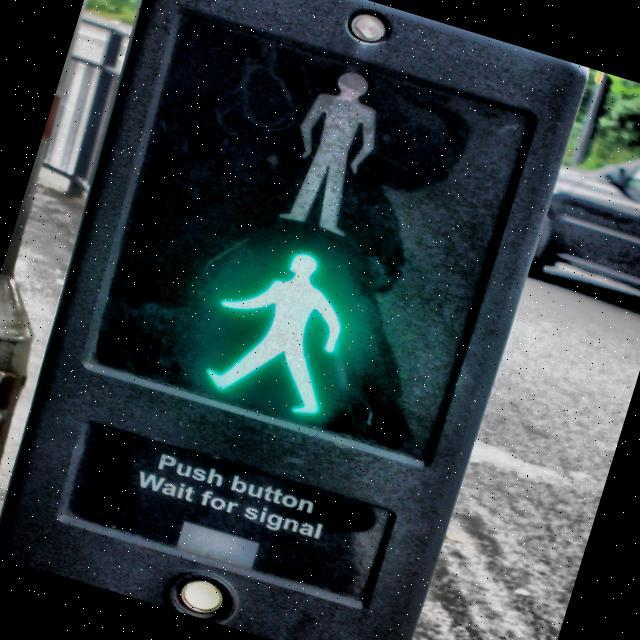green_light: (186, 226, 378, 430)
